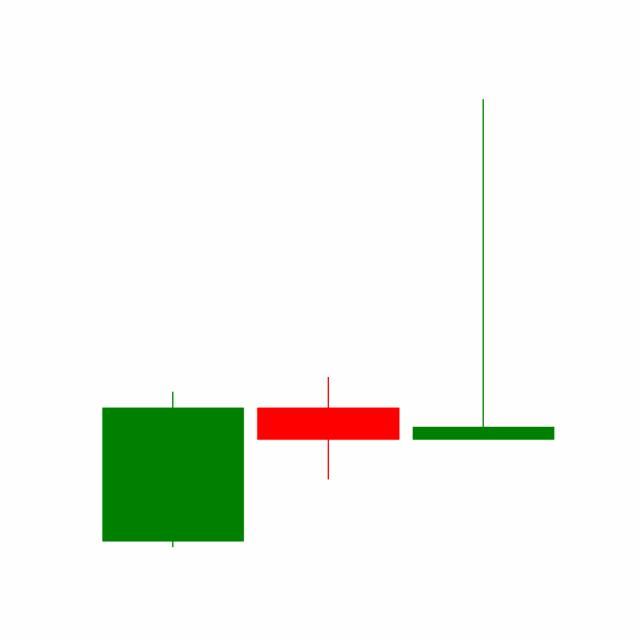Gravestone Doji: (405, 95, 561, 442)
